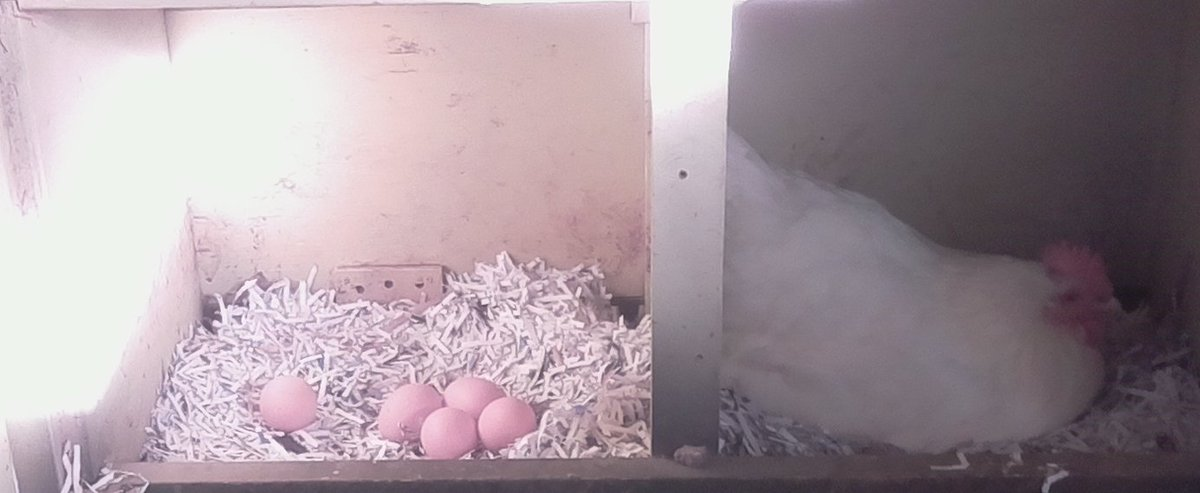egg: (255, 367, 323, 438), (375, 378, 445, 445), (474, 393, 542, 454), (416, 404, 481, 464), (440, 372, 509, 418)
hen: (731, 123, 1131, 446)
